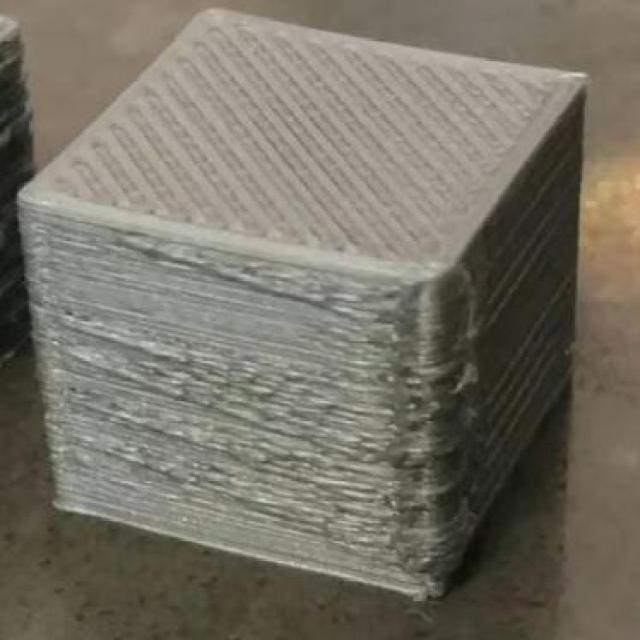spaghetti: (35, 204, 492, 597)
